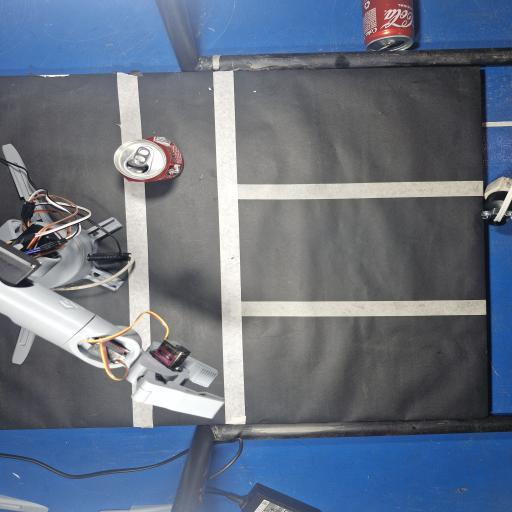lata_defectuoso: (115, 137, 183, 181)
